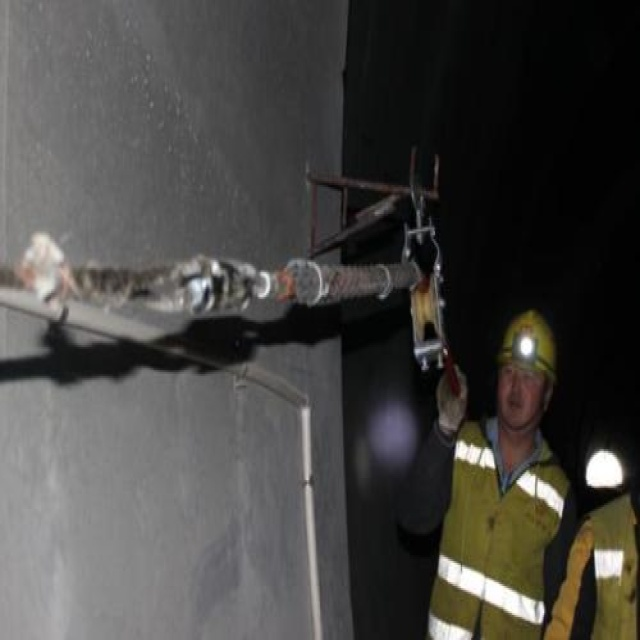Helmet: (490, 298, 559, 444)
Reflective vest: (424, 417, 562, 640), (580, 496, 640, 640)
